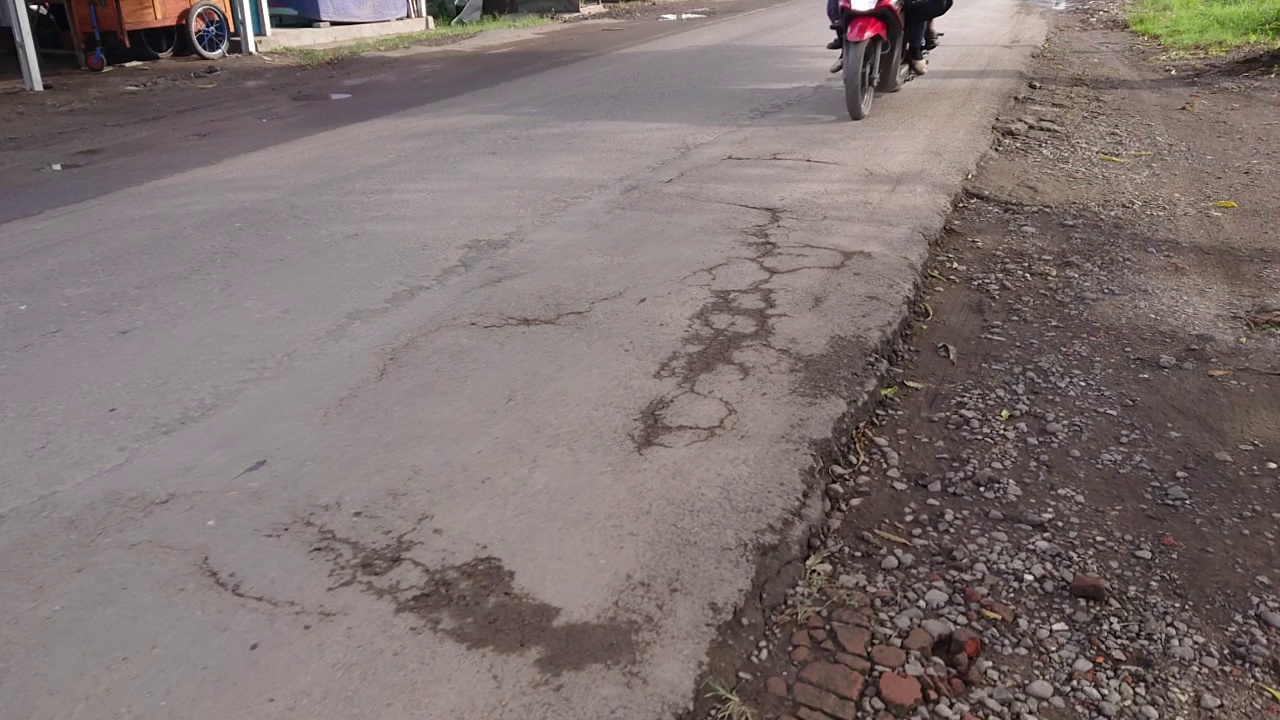Retak: (349, 488, 661, 676), (633, 212, 818, 454)
